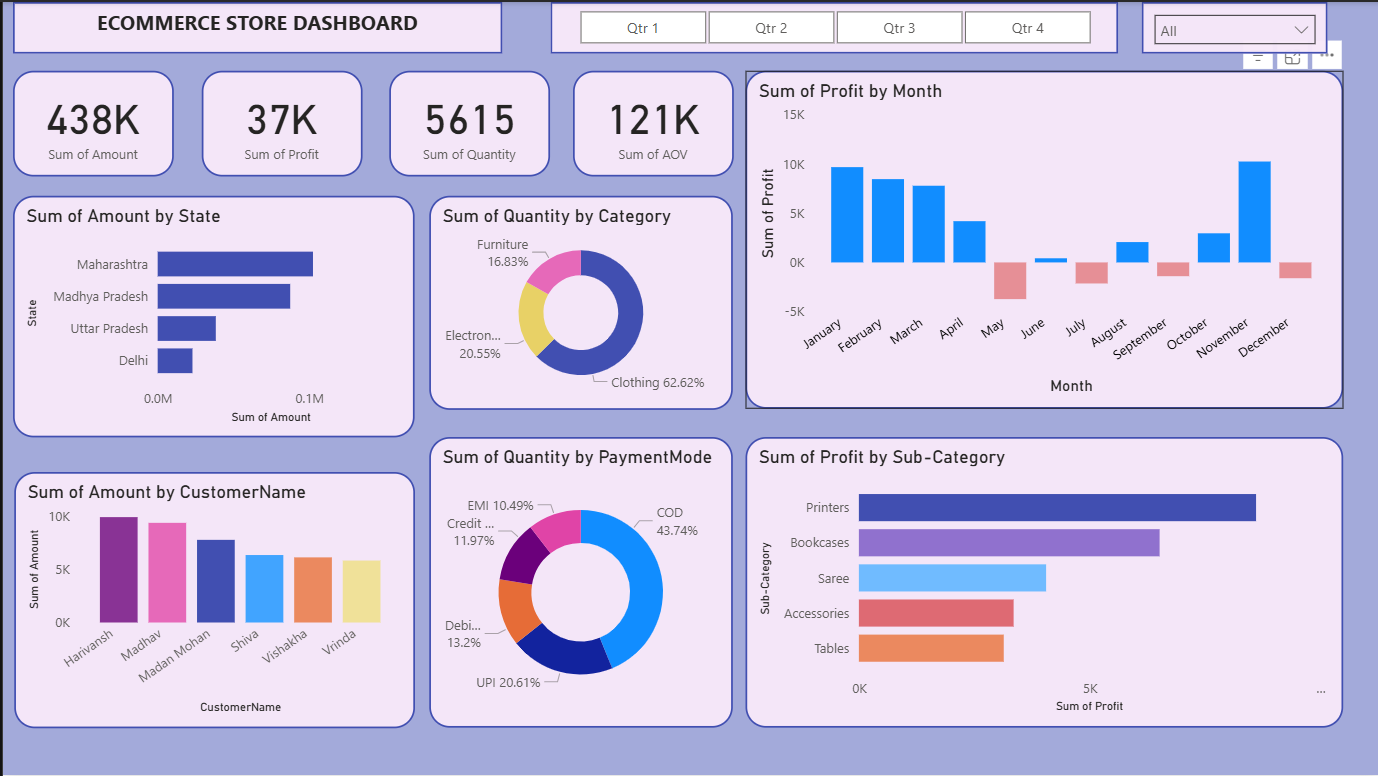

Layout of this report page (visuals, bound fields, positions):
{"tool":"powerbi","page":{"name":"Page 1","canvas":[1280,720],"ordinal":0},"visuals":[{"type":"clusteredColumnChart","fields":{"Category":["Orders.Order Date.Variation.Date Hierarchy.Month"],"Y":["Details.Profit"]},"box":[690.2,64.5,555.7,314.2],"z":0},{"type":"textbox","box":[9.6,0,455.6,48],"z":1000},{"type":"clusteredBarChart","fields":{"Category":["Details.Sub-Category"],"Y":["Details.Profit"]},"box":[690.2,404.8,555.7,270.3],"z":2000},{"type":"donutChart","fields":{"Category":["Details.PaymentMode"],"Y":["Details.Quantity"]},"box":[396.6,404.8,282.7,270.3],"z":3000},{"type":"donutChart","fields":{"Category":["Details.Category"],"Y":["Details.Quantity"]},"box":[396.6,179.8,282.7,199],"z":4000},{"type":"card","fields":{"Values":["Details.Amount"]},"box":[9.6,64.5,149.6,98.8],"z":5000},{"type":"card","fields":{"Values":["Details.Quantity"]},"box":[359.5,64.5,149.6,98.8],"z":6000},{"type":"card","fields":{"Values":["Details.Profit"]},"box":[185.2,64.5,149.6,98.8],"z":7000},{"type":"card","fields":{"Values":["Details.AOV"]},"box":[529.7,64.5,149.6,98.8],"z":8000},{"type":"clusteredBarChart","fields":{"Y":["Details.Amount"],"Category":["Orders.State"]},"box":[9.6,179.8,373.2,225],"z":9000},{"type":"clusteredColumnChart","fields":{"Y":["Details.Amount"],"Category":["Orders.CustomerName"]},"box":[10,437,373,238],"z":10000},{"type":"slicer","fields":{"Values":["Orders.Order Date.Variation.Date Hierarchy.Quarter"]},"box":[509.1,0,528.3,48],"z":11000},{"type":"slicer","fields":{"Values":["Orders.State"]},"box":[1059.4,0,172.9,48],"z":12000}]}

Visuals, with their boxes in screenshot pixels (x1, y1, x2, y2), scaled from the page's 1280x720 canvas onto the 1378x776 screenshot:
clusteredColumnChart - Orders.Order Date.Variation.Date Hierarchy.Month x Details.Profit: box(743, 70, 1341, 408)
textbox: box(10, 0, 501, 52)
clusteredBarChart - Details.Sub-Category x Details.Profit: box(743, 436, 1341, 728)
donutChart - Details.PaymentMode x Details.Quantity: box(427, 436, 731, 728)
donutChart - Details.Category x Details.Quantity: box(427, 194, 731, 408)
card - Details.Amount: box(10, 70, 171, 176)
card - Details.Quantity: box(387, 70, 548, 176)
card - Details.Profit: box(199, 70, 360, 176)
card - Details.AOV: box(570, 70, 731, 176)
clusteredBarChart - Details.Amount x Orders.State: box(10, 194, 412, 436)
clusteredColumnChart - Details.Amount x Orders.CustomerName: box(11, 471, 412, 728)
slicer - Orders.Order Date.Variation.Date Hierarchy.Quarter: box(548, 0, 1117, 52)
slicer - Orders.State: box(1141, 0, 1327, 52)
